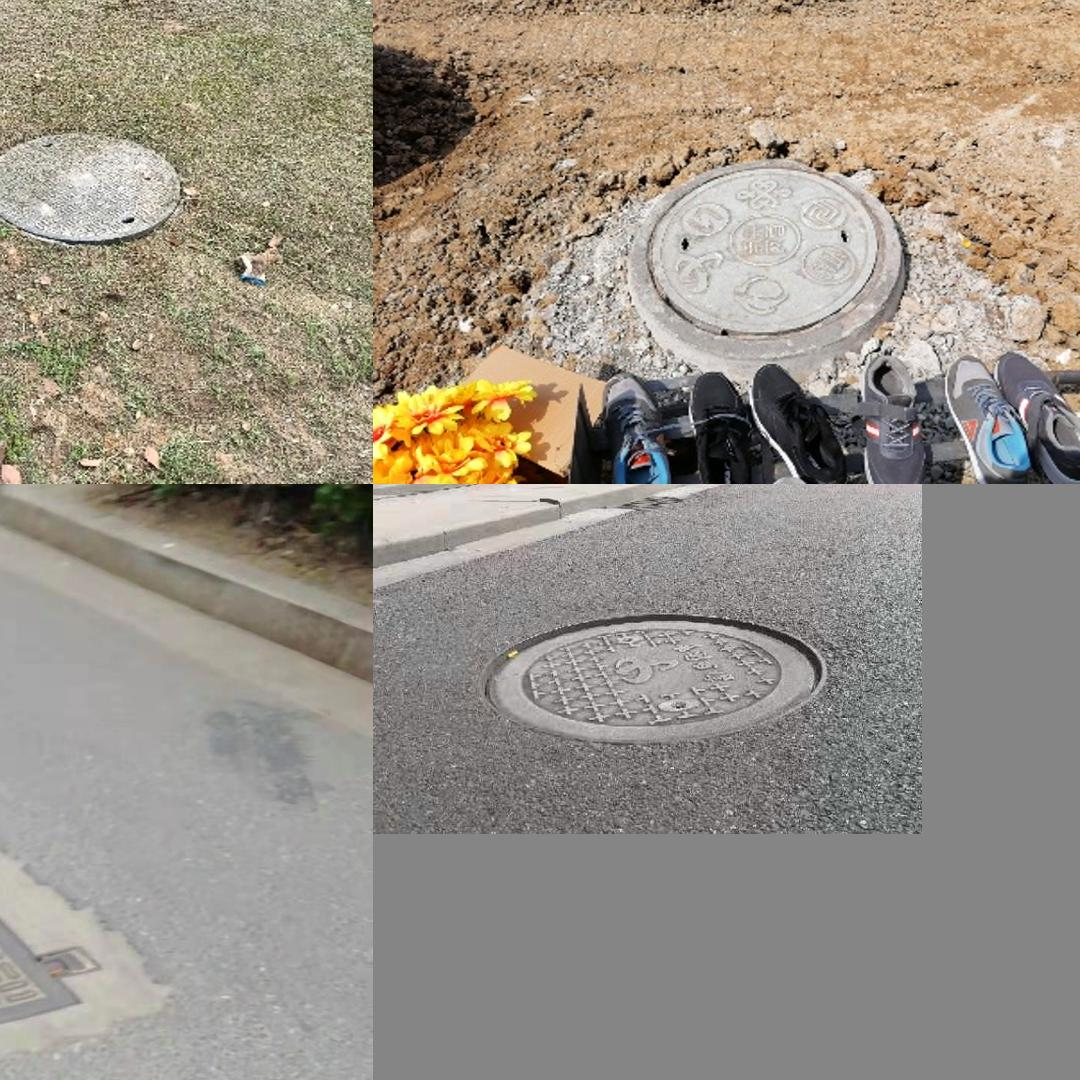good: (465, 603, 832, 759), (629, 157, 905, 355), (0, 803, 142, 1075), (0, 130, 178, 240)
